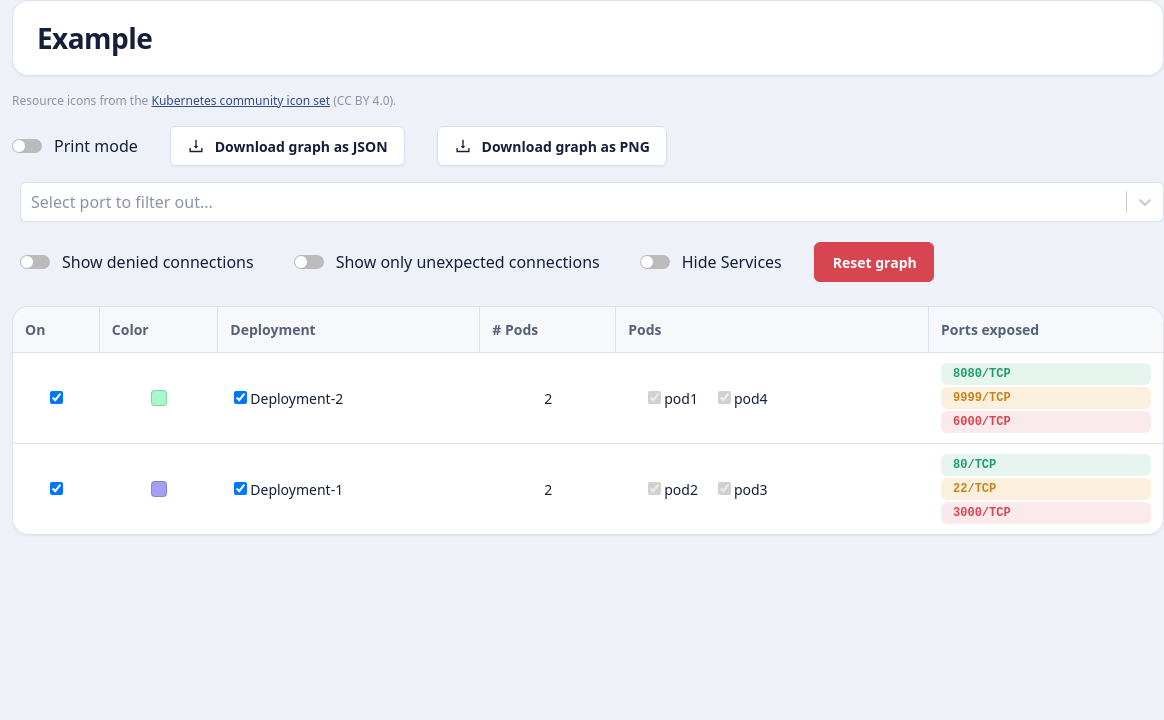
it: It handles enable click
Click the 1st checkbox.
click(57, 397)  # box [50,390,63,404]
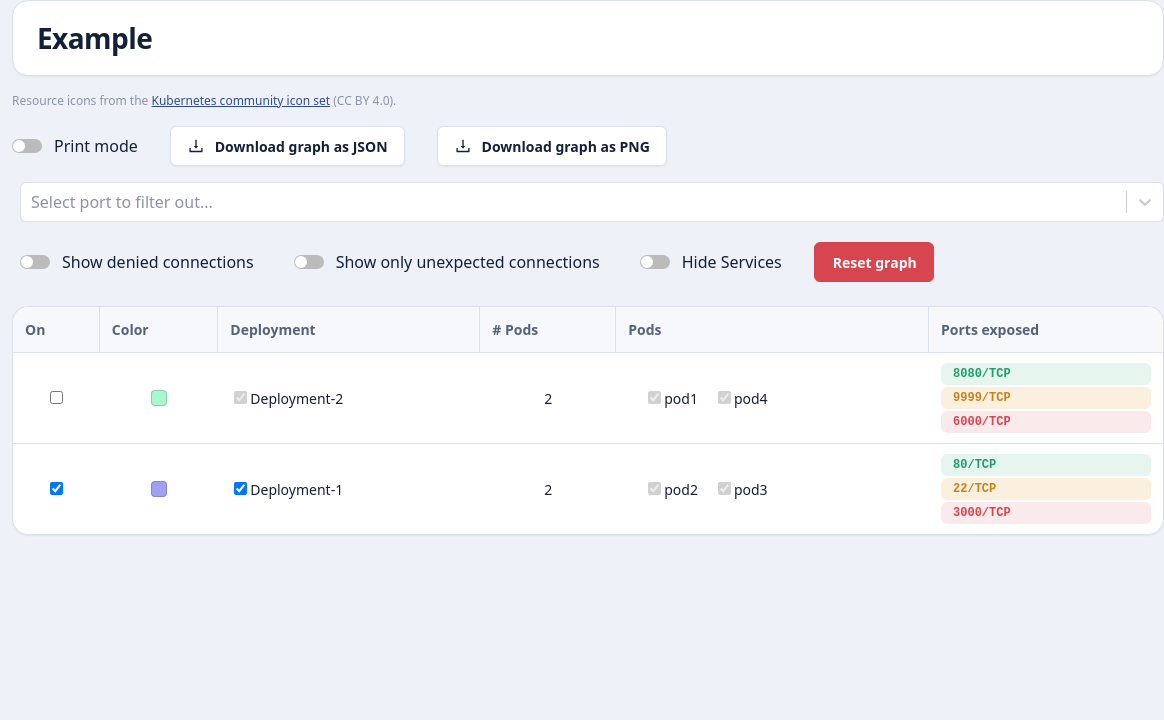
Check: the 1st checkbox is not checked, box [50,390,63,404]
